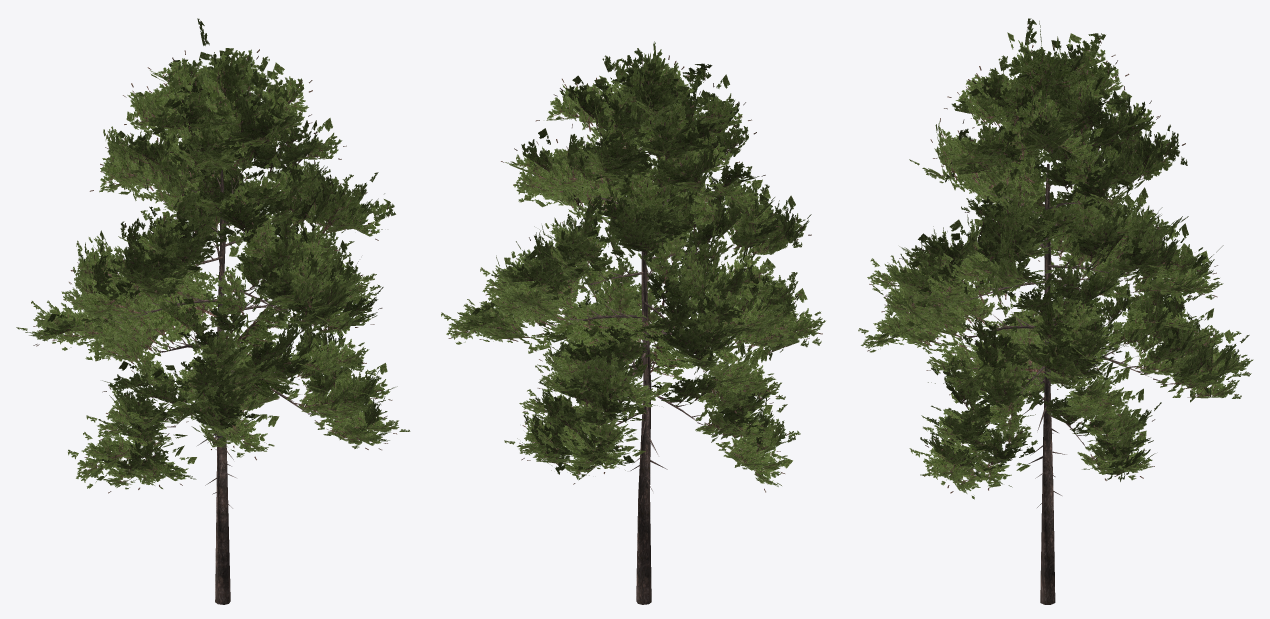
File: pine.glb
The picture shows the model from 3 angles, left to right: view 1: azimuth 30°, elevation 25°; view 2: azimuth 150°, elevation 25°; view 3: azimuth 270°, elevation 25°; orthographic projection.
Parts seen in each view (by area): view 1: pine; view 2: pine; view 3: pine.
Boxes of the visible parts, x1,y1,x2,y2 form: pine: (16,18,410,604); pine: (441,41,825,604); pine: (858,18,1253,604).
Size of the model in its own units: 15.39 by 24 by 15.06.
2 materials, 2 textured.
